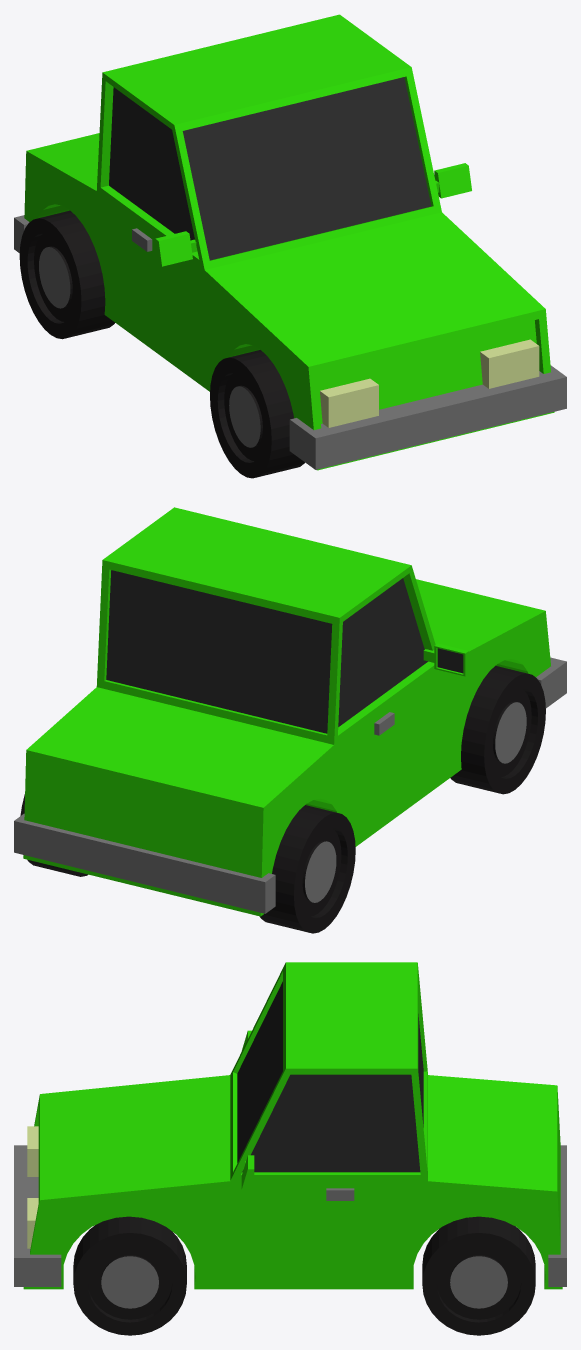
Rendered from test_car_blender.glb.
The picture shows the model from 3 angles, top to bottom: view 1: azimuth 30°, elevation 25°; view 2: azimuth 150°, elevation 25°; view 3: azimuth 270°, elevation 25°; orthographic projection. The views are drawn at different scales.
Visible parts, largest first — view 1: carbody, wheel, fornt_bumper, head_lights, Mirrows; view 2: carbody, wheel, back_bumper, Mirrows, fornt_bumper; view 3: carbody, wheel, fornt_bumper, back_bumper, head_lights, Mirrows.
Part boxes in pixels (x1,y1,x2,y2): carbody: (24,14,554,470); wheel: (19,210,304,478); fornt_bumper: (289,365,566,469); head_lights: (320,339,539,427); Mirrows: (155,163,471,266); carbody: (23,507,550,916); wheel: (20,665,545,933); back_bumper: (14,813,275,913); Mirrows: (423,643,471,676); fornt_bumper: (536,657,566,708); carbody: (23,962,562,1289); wheel: (73,1216,535,1335); fornt_bumper: (14,1145,61,1286); back_bumper: (548,1145,566,1286); head_lights: (27,1126,38,1248); Mirrows: (241,1030,254,1190).
Size of the model in its own units: 6.78 by 5.9 by 11.42.
